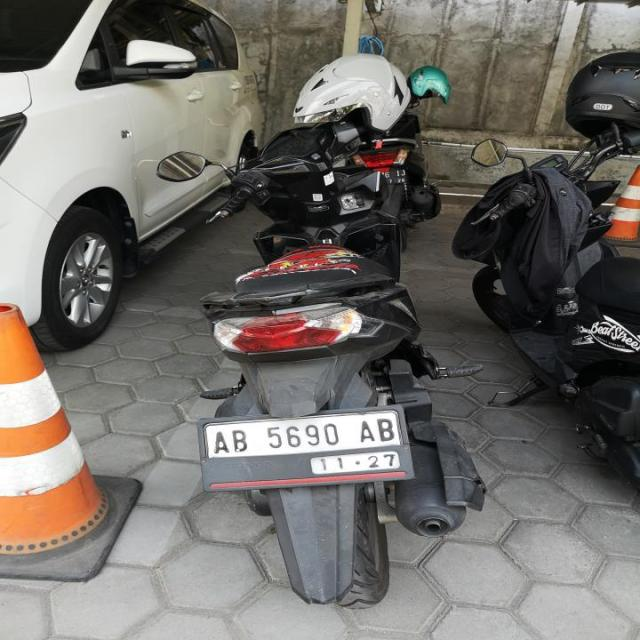License Plate: (195, 402, 414, 496)
